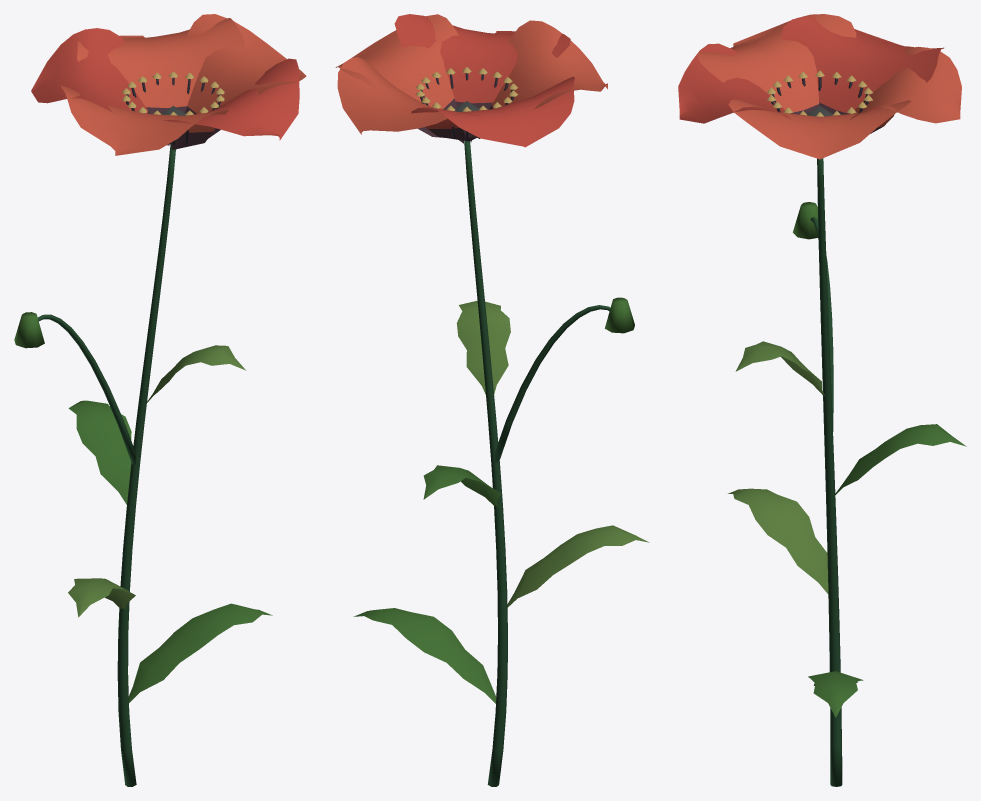
Rendered from meadow_poppy.hi.glb.
3 renders of one model, left to right at view 1: azimuth 30°, elevation 25°; view 2: azimuth 150°, elevation 25°; view 3: azimuth 270°, elevation 25°, orthographic. The views are drawn at different scales.
Parts seen in each view (by area): view 1: body; view 2: body; view 3: body.
Boxes of the visible parts, box(x1,y1,x2,y2) form: body: box(14, 14, 306, 786); body: box(335, 14, 649, 786); body: box(678, 14, 966, 786).
Size of the model in its own units: 0.25 by 0.5989 by 0.2114.
